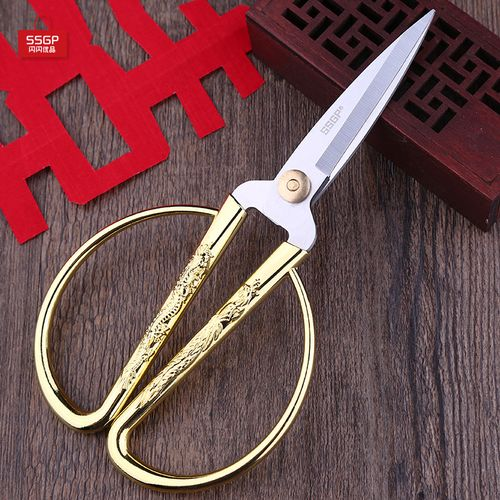scissor: (32, 3, 441, 491)
